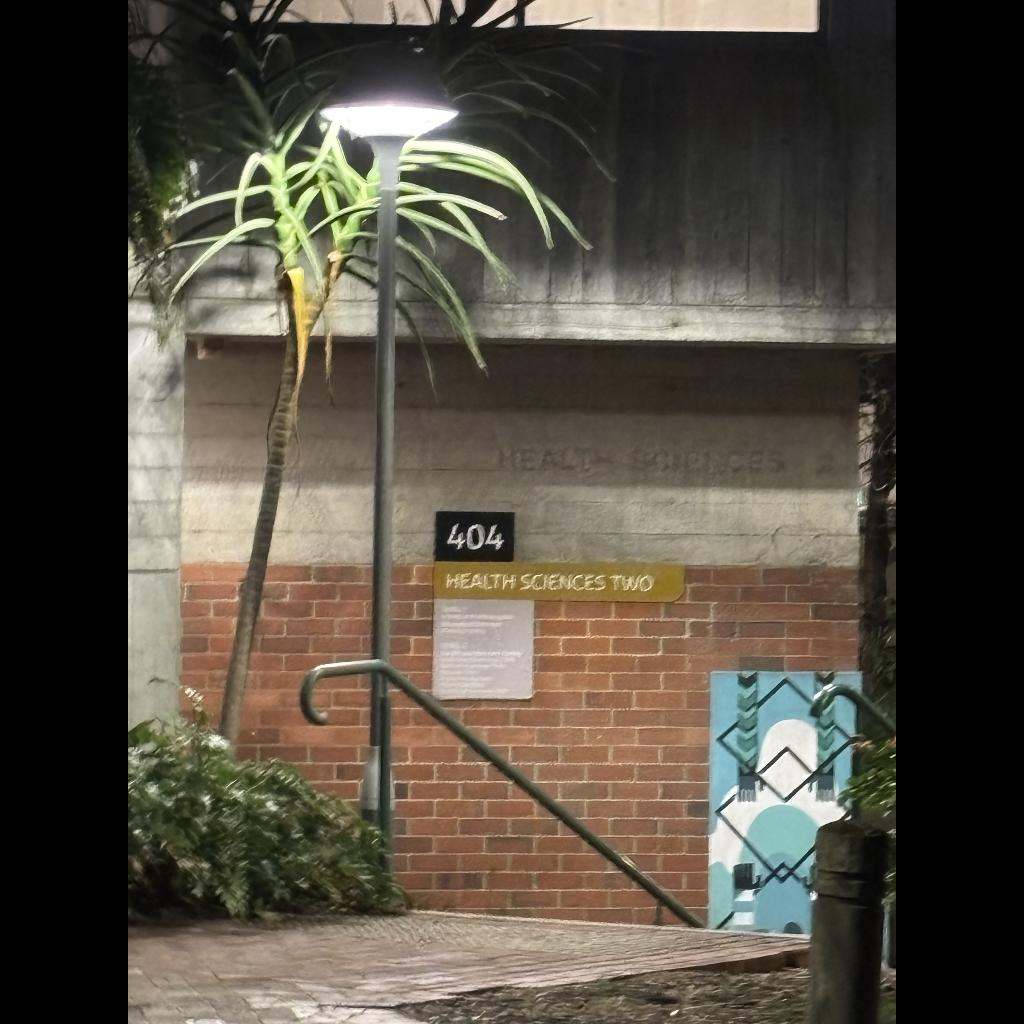BuildingCodes: (444, 520, 506, 554)
